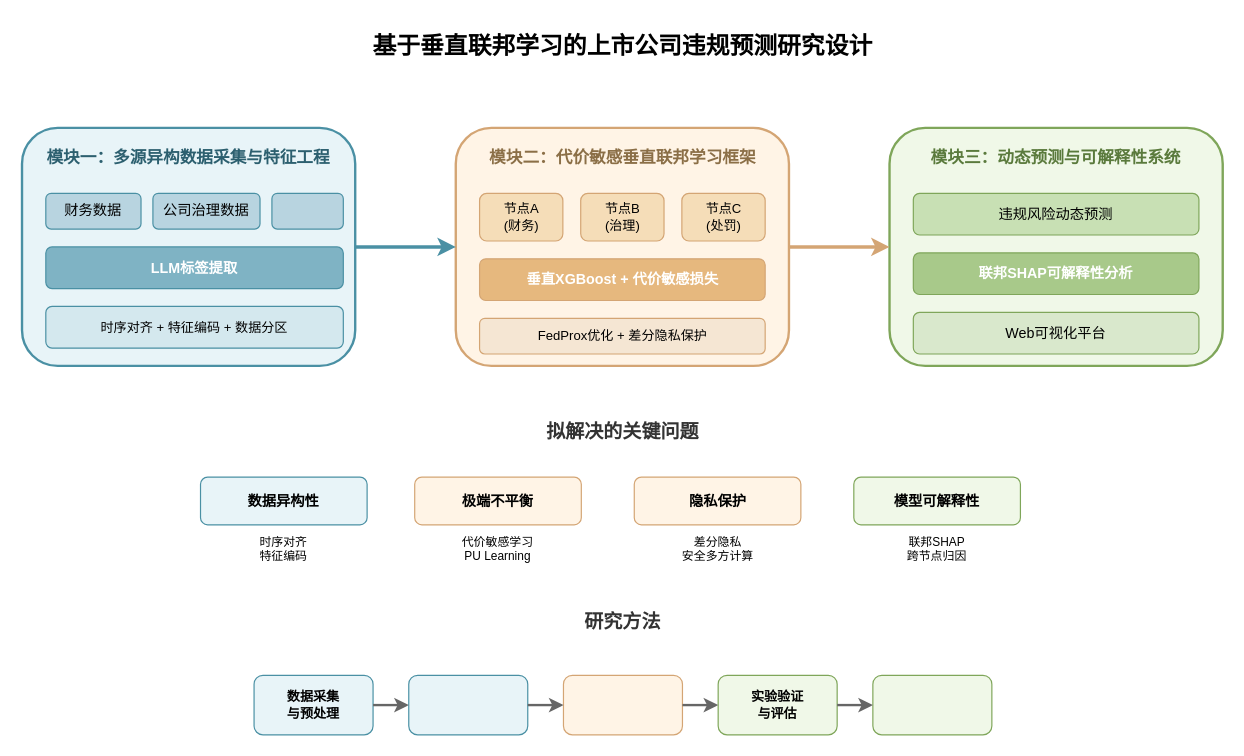
The diagram is 1244 pixels wide and 756 high, and some of its shapes have lost their labels. Each missing label, with the centre of its shape:
特征工程 与数据分区: (468,704)
监管处罚数据: (307,210)
算法设计 与实现: (622,704)
系统开发 与集成: (932,704)
